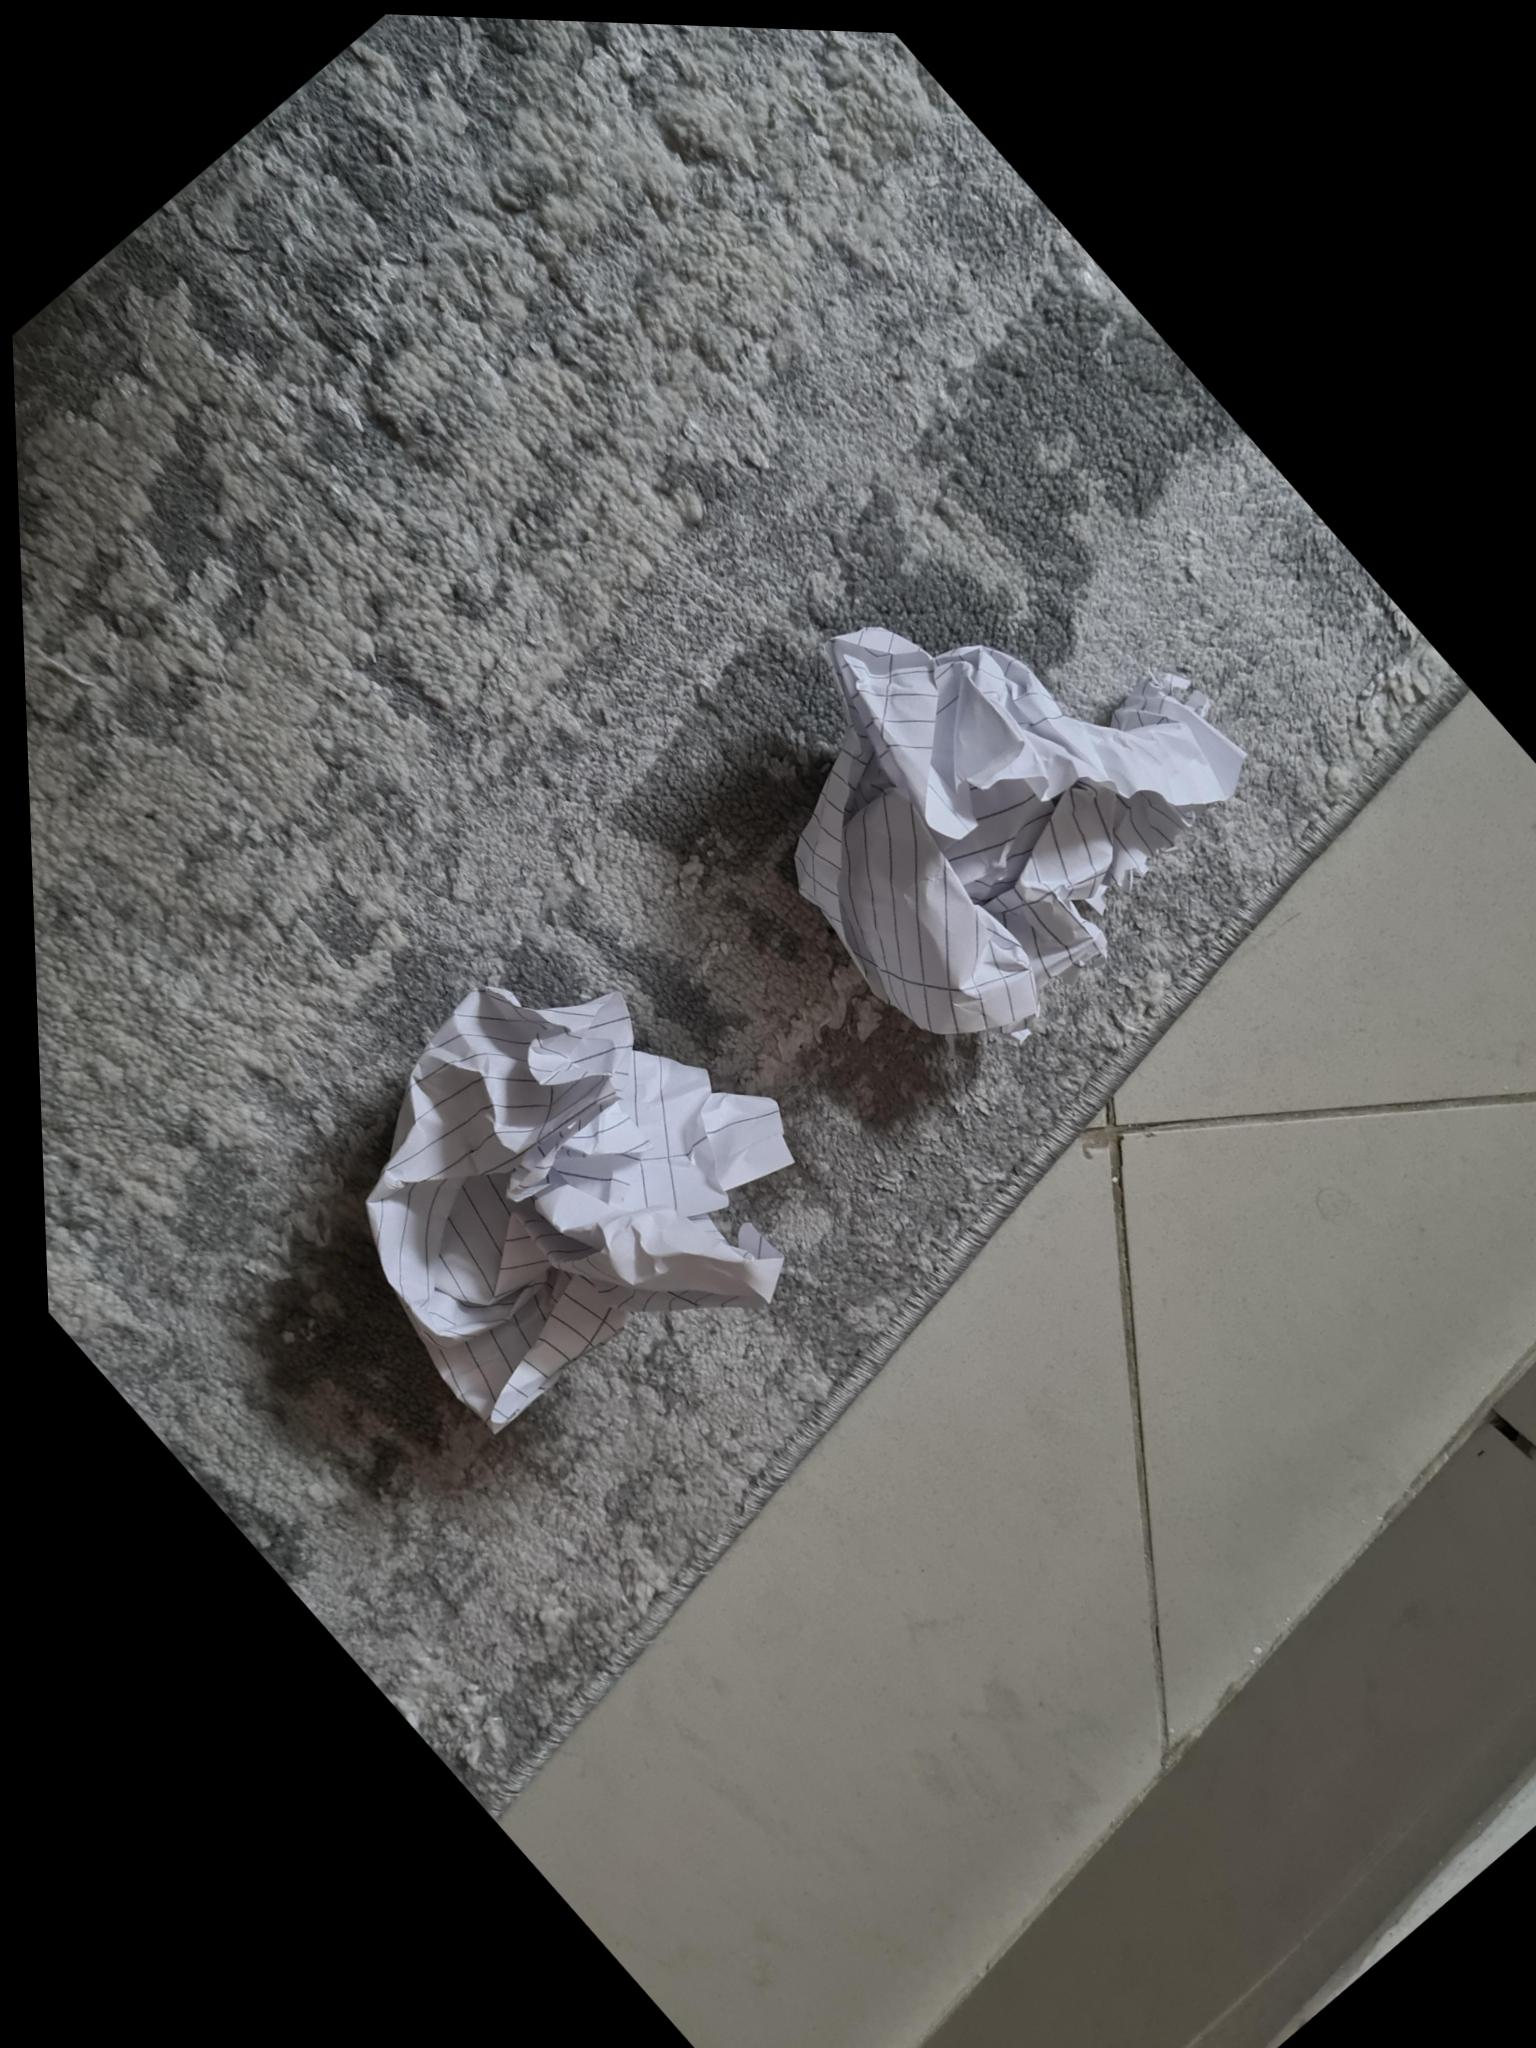paper: (653, 466, 1309, 1121), (248, 879, 881, 1508)
